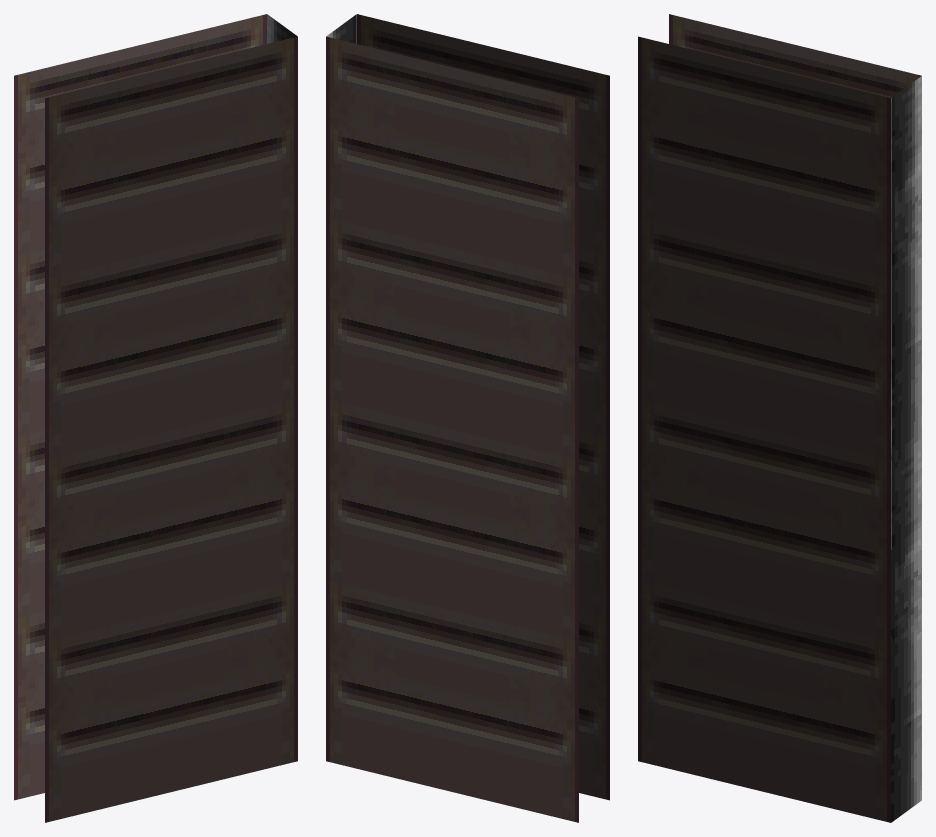
Rendered from primary_165.glb.
3 views of the same model, side by side, from view 1: azimuth 30°, elevation 25°; view 2: azimuth 150°, elevation 25°; view 3: azimuth 330°, elevation 25° (orthographic).
Parts seen in each view (by area): view 1: Object; view 2: Object; view 3: Object.
Part boxes in pixels (<box>): Object: <box>14,14,297,822</box>; Object: <box>326,14,609,822</box>; Object: <box>638,14,921,822</box>.
Size of the model in its own units: 0.797 by 2.18 by 0.1678.
Materials: 3 (3 with a texture image).
